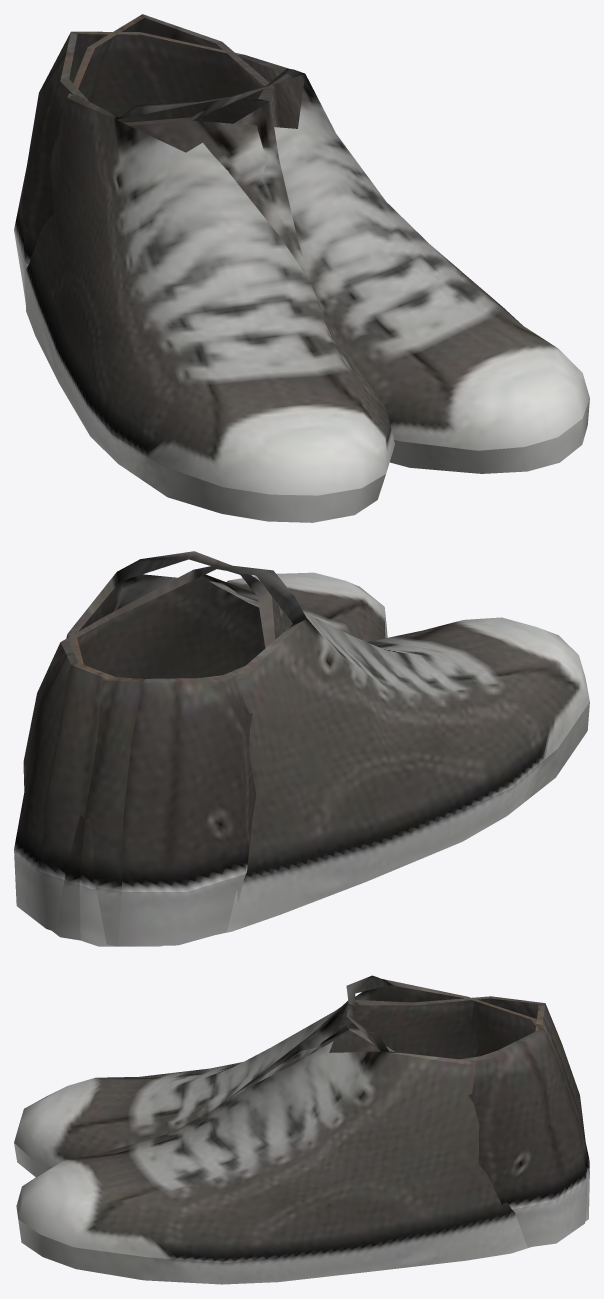
The model's file is footwear-sneakers.glb.
3 renders of one model, top to bottom at view 1: azimuth 30°, elevation 25°; view 2: azimuth 150°, elevation 25°; view 3: azimuth 270°, elevation 25°, orthographic. The views are drawn at different scales.
Visible parts, largest first — view 1: foot_right, foot_left; view 2: foot_right, foot_left; view 3: foot_left, foot_right.
Part boxes in pixels (box(x1,y1,x2,y2)): foot_right: box(25, 14, 394, 522); foot_left: box(14, 31, 589, 473); foot_right: box(14, 565, 589, 946); foot_left: box(52, 551, 387, 946); foot_left: box(16, 996, 589, 1284); foot_right: box(14, 975, 589, 1247).
Size of the model in its own units: 0.1723 by 0.1113 by 0.2744.
1 material, 1 textured.
